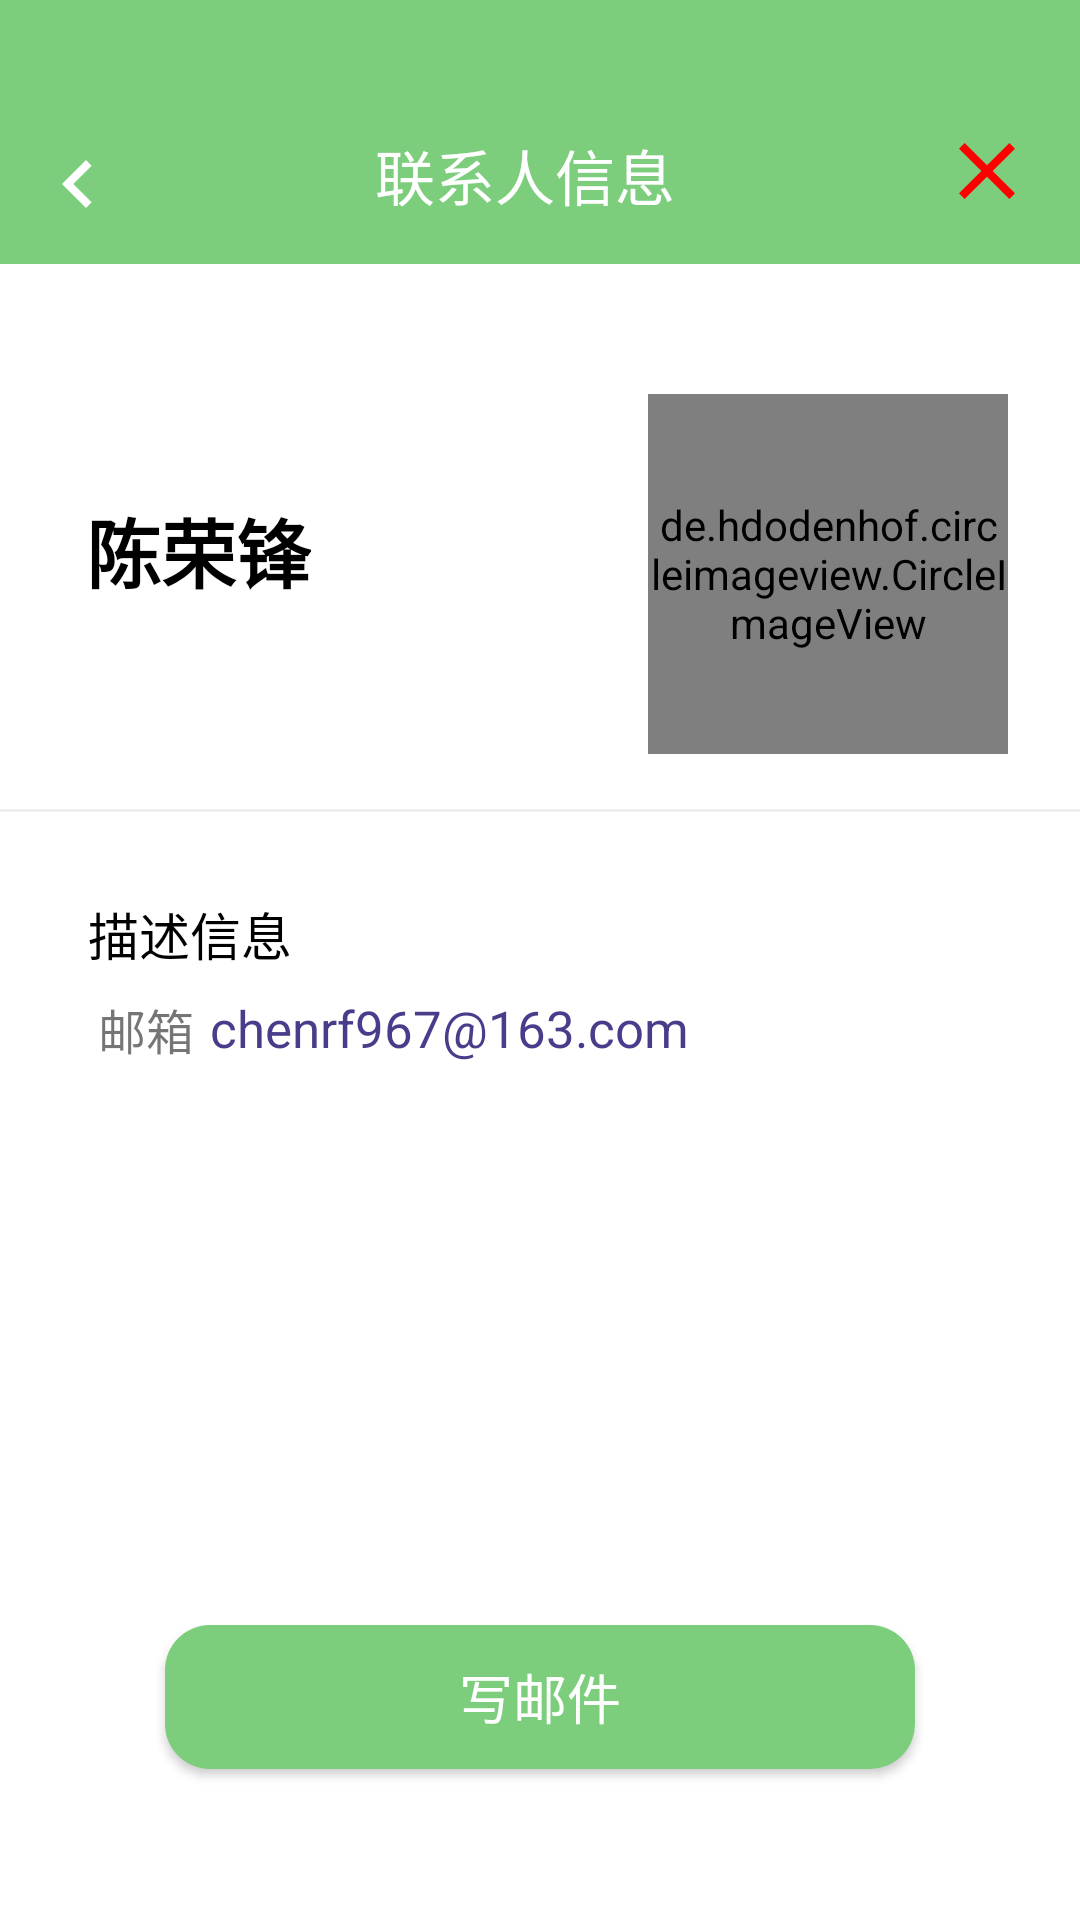

Where to tap for icons on this 1080*1920 app screen, as [x,y]:
clear: [987,171]
keyboard arrow left: [77,184]
